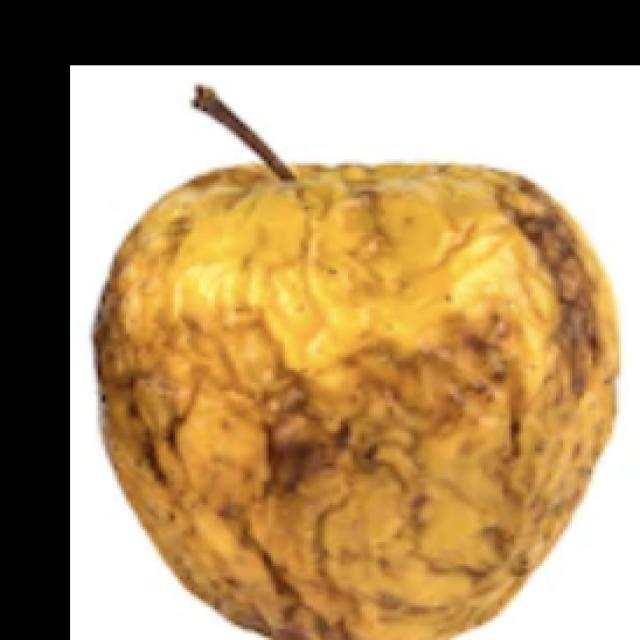Rotten: (96, 150, 616, 640)
